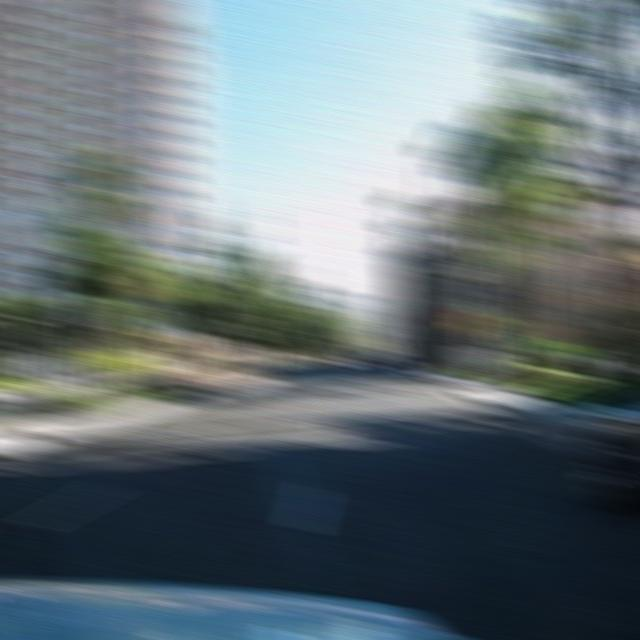speedLimit35: (56, 290, 94, 327)
